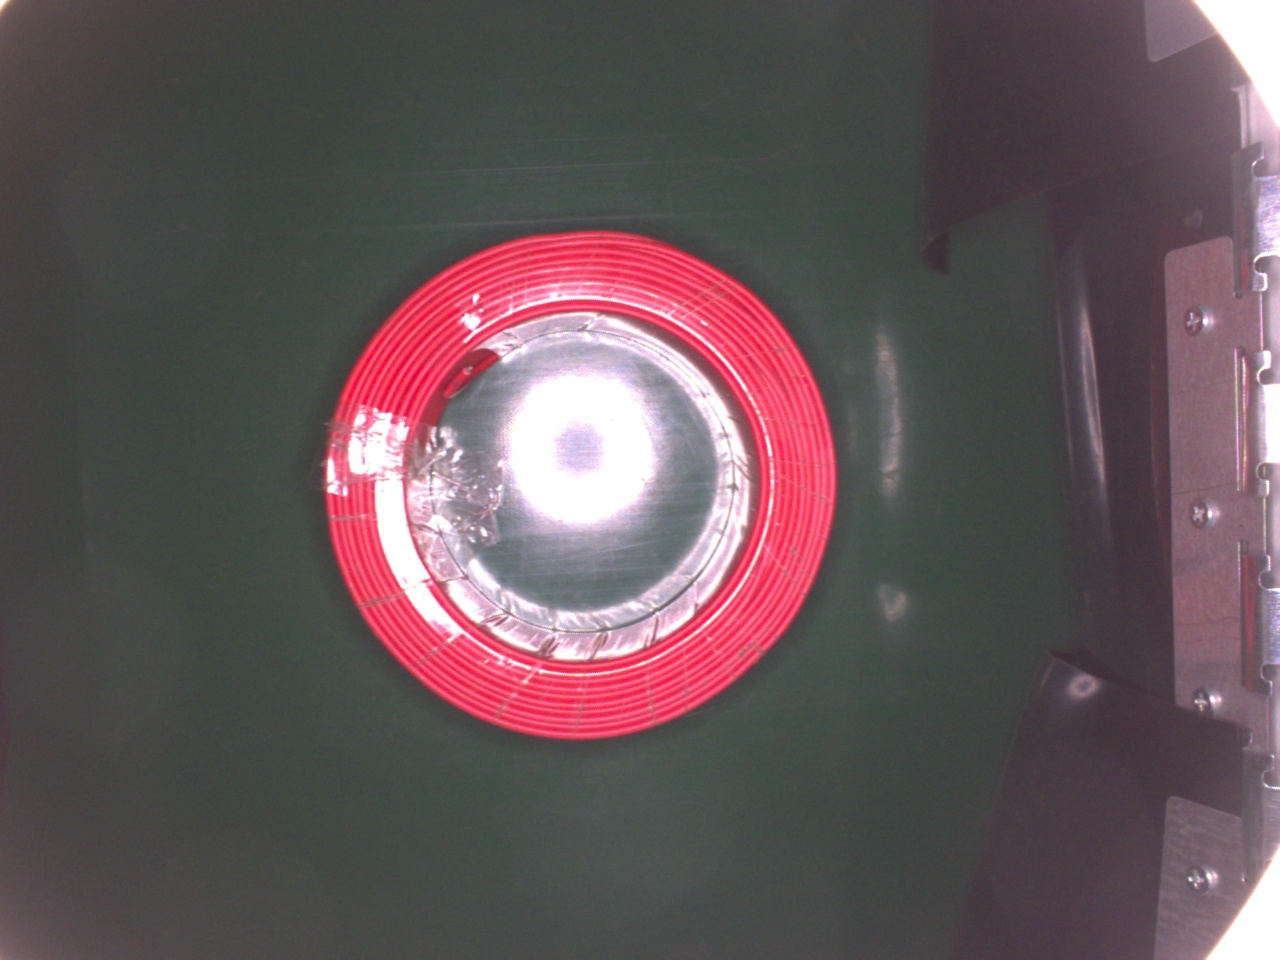red: (315, 223, 837, 739)
